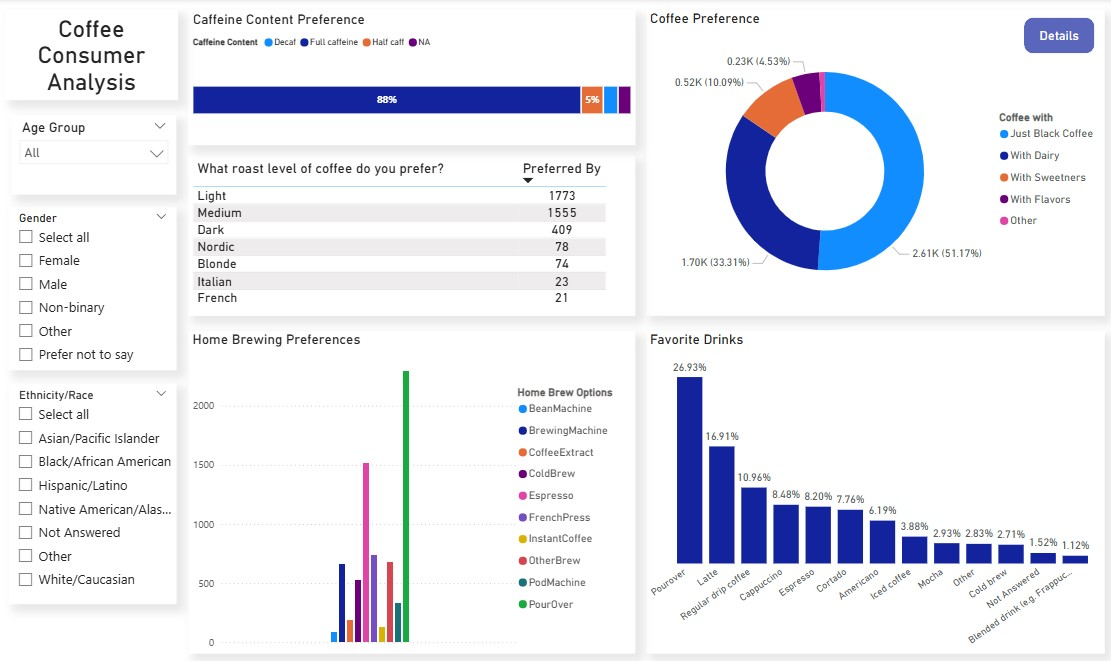

The dashboard page shown, as its layout file describes it:
{"tool":"powerbi","page":{"name":"Customer Preferences 2","canvas":[1380,820],"ordinal":1},"visuals":[{"type":"donutChart","title":"Coffee Preference","fields":{"Y":["CoffeeTableMeasures.Count_Black","CoffeeTableMeasures.Count_WithDairy","CoffeeTableMeasures.Count_WithSweetner","CoffeeTableMeasures.Count_WithFlavour","CoffeeTableMeasures.Count_WithOther"]},"box":[796.7,14.8,564.3,376.2],"z":0},{"type":"slicer","fields":{"Values":["CoffeeData.Gender"]},"box":[12.9,256.3,206.5,201],"z":1000},{"type":"slicer","fields":{"Values":["CoffeeData.Ethnicity/Race"]},"box":[12.9,473.9,206.5,271.1],"z":2000},{"type":"columnChart","title":"Favorite Drinks","fields":{"Category":["CoffeeData.What is your favorite coffee drink?"],"Y":["CountNonNull(CoffeeData.Submission ID)"]},"box":[796.7,409.4,564.3,396.5],"z":3000},{"type":"clusteredColumnChart","title":"Home Brewing Preferences","fields":{"Y":["CoffeeTableMeasures.BeanMachine","CoffeeTableMeasures.BrewingMachine","CoffeeTableMeasures.CoffeeExtract","CoffeeTableMeasures.ColdBrew","CoffeeTableMeasures.Espresso","CoffeeTableMeasures.FrenchPress","CoffeeTableMeasures.InstantCoffee","CoffeeTableMeasures.OtherBrew","CoffeeTableMeasures.PodMachine","CoffeeTableMeasures.PourOver"]},"box":[234.2,409.4,549.5,396.5],"z":4000},{"type":"slicer","fields":{"Values":["CoffeeData.What is your age?"]},"box":[16.6,143.8,202.9,97.7],"z":5000},{"type":"tableEx","title":"Why People Drink Coffee?","fields":{"Values":["CoffeeData.What roast level of coffee do you prefer?","Count(CoffeeData.Submission ID)"]},"box":[234.2,193.6,549.5,197.3],"z":6000},{"type":"hundredPercentStackedBarChart","title":"Caffeine Content Preference","fields":{"Series":["CoffeeData.How much caffeine do you like in your coffee?"],"Y":["CountNonNull(CoffeeData.Submission ID)"]},"box":[234.2,14.8,549.5,166],"z":7000},{"type":"actionButton","box":[1261.4,24,86.7,44.3],"z":8000},{"type":"textbox","box":[9.2,14.8,212.1,110.6],"z":9000}]}

Visuals, with their boxes in screenshot pixels (x1, y1, x2, y2), scaled from the page's 1380x820 canvas onto the 1111x661 screenshot:
"Coffee Preference" donutChart: locate(641, 12, 1096, 315)
slicer - CoffeeData.Gender: locate(10, 207, 177, 369)
slicer - CoffeeData.Ethnicity/Race: locate(10, 382, 177, 601)
"Favorite Drinks" columnChart: locate(641, 330, 1096, 650)
"Home Brewing Preferences" clusteredColumnChart: locate(189, 330, 631, 650)
slicer - CoffeeData.What is your age?: locate(13, 116, 177, 195)
"Why People Drink Coffee?" tableEx: locate(189, 156, 631, 315)
"Caffeine Content Preference" hundredPercentStackedBarChart: locate(189, 12, 631, 146)
actionButton: locate(1016, 19, 1085, 55)
textbox: locate(7, 12, 178, 101)
